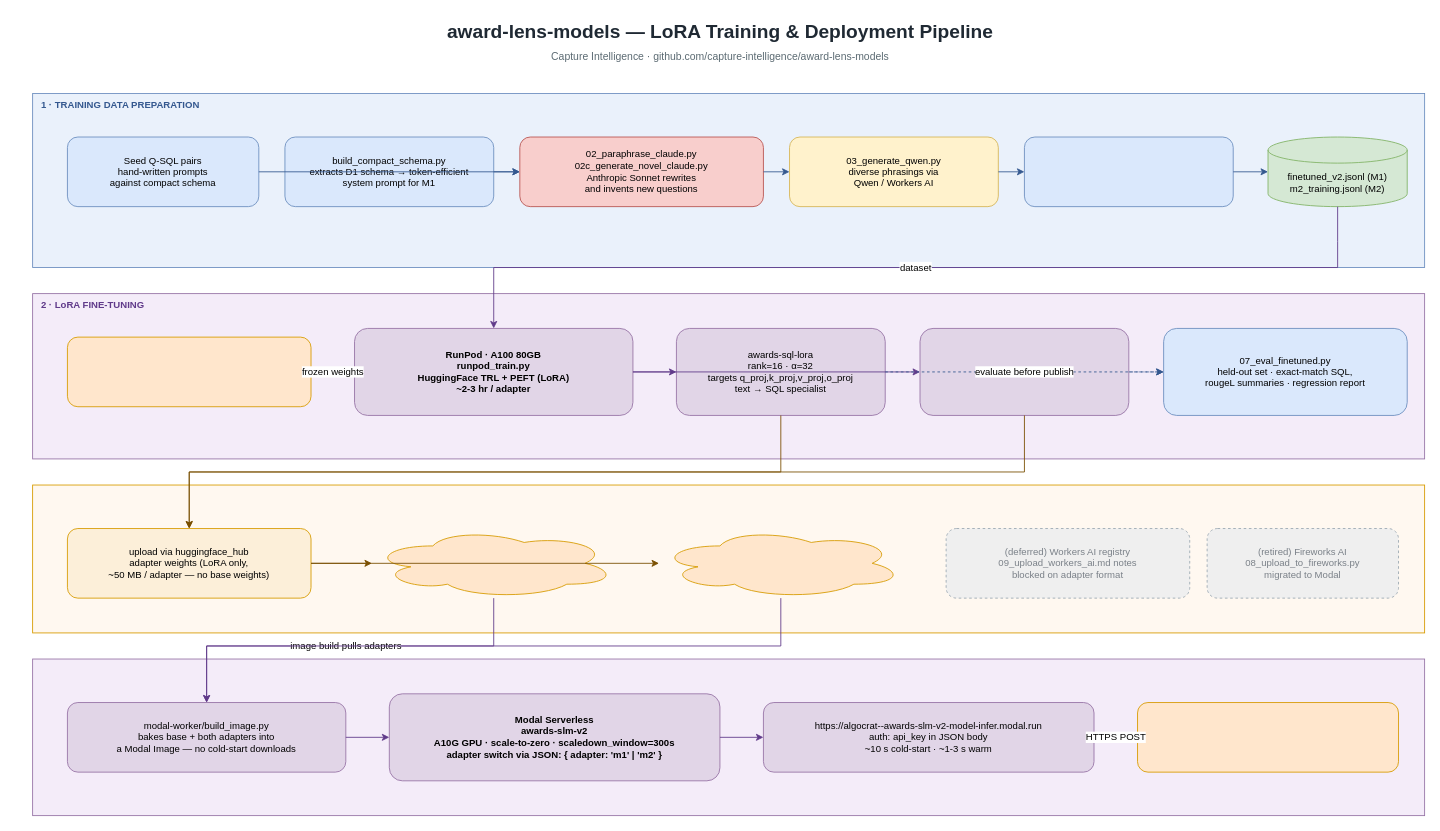
Some shapes in this 1440 by 831 pixel diagram are drawn without their labels. Here are the shapes that lost their labels. From the top down, the box of each, then its label:
(1024, 136, 1233, 207): 04_combine.py 01_split_eval.py jsonl train / eval split
(67, 336, 311, 407): Base model meta-llama/Llama-3.1-8B-Instruct weights frozen during LoRA
(919, 328, 1129, 415): awards-summarize-lora rank=16 · α=32 result-row → narrative summary
(371, 528, 616, 598): algocrat/awards-sql-lora public · versioned by commit sha
(32, 484, 1425, 633): 3 · ADAPTER REGISTRY
(658, 528, 903, 598): algocrat/awards-summarize-lora public · versioned by commit sha
(32, 658, 1425, 816): 4 · PRODUCTION SERVING
(1137, 702, 1399, 772): award-lens Worker m1_sql.ts · m2_local.ts 25 s timeout · Workers AI fallback
